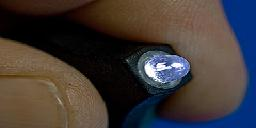LED: (143, 50, 191, 91)
